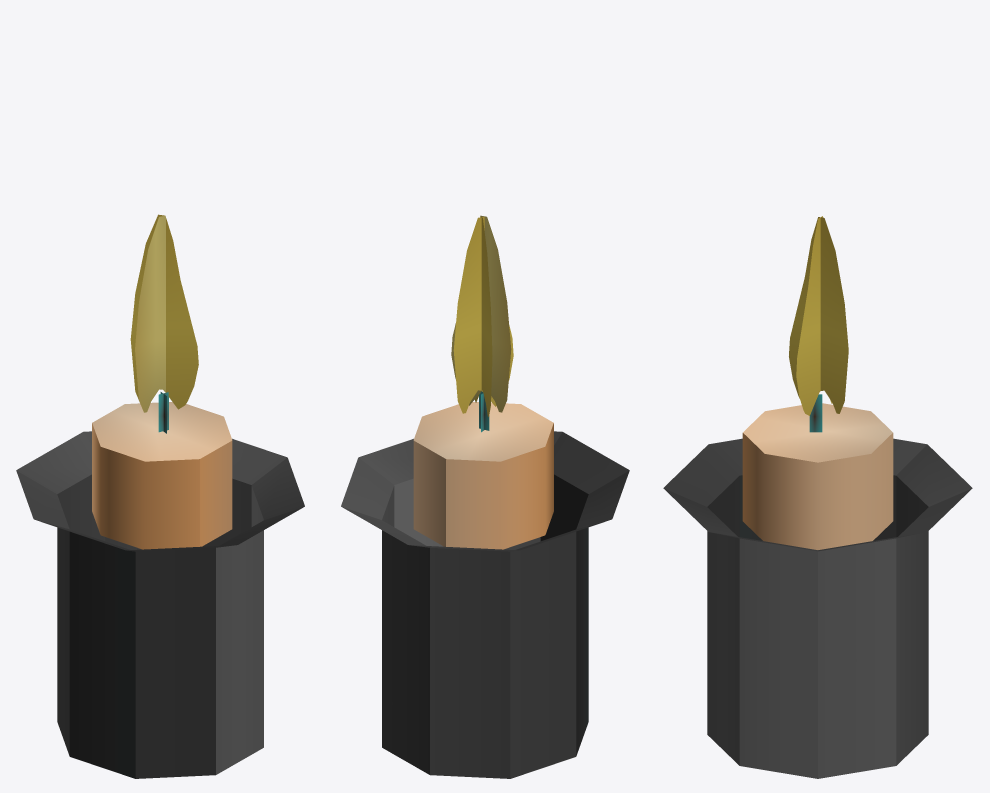
File: candle_338x02.obj
3 views of the same model, side by side, from view 1: azimuth 30°, elevation 25°; view 2: azimuth 150°, elevation 25°; view 3: azimuth 270°, elevation 25° (orthographic).
Visible parts, largest first — view 1: Candle_338x2; view 2: Candle_338x2; view 3: Candle_338x2.
Boxes of the visible parts, box(x1,y1,x2,y2) form: Candle_338x2: box(16, 214, 304, 778); Candle_338x2: box(341, 215, 629, 778); Candle_338x2: box(663, 216, 972, 778).
Size of the model in its own units: 0.3877 by 0.9832 by 0.409.
